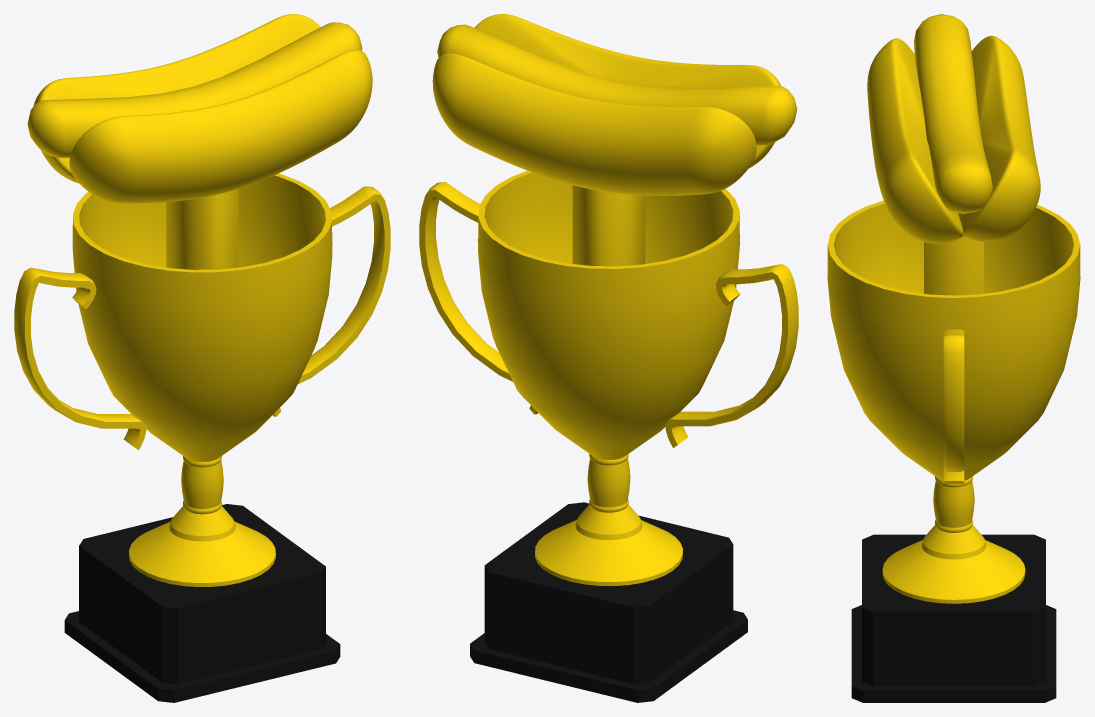
The model's file is TROFEO.fbx.
The picture shows the model from 3 angles, left to right: view 1: azimuth 30°, elevation 25°; view 2: azimuth 150°, elevation 25°; view 3: azimuth 270°, elevation 25°; orthographic projection. The views are drawn at different scales.
Visible parts, largest first — view 1: trophy, BunRight, Hot Dog, BunLeft, Cube; view 2: trophy, BunLeft, Hot Dog, BunRight, Cube; view 3: trophy, BunRight, Hot Dog, BunLeft, Cube.
Boxes of the visible parts, bbox=[...] form: trophy: bbox=[14, 173, 390, 702]; BunRight: bbox=[69, 50, 372, 203]; Hot Dog: bbox=[27, 22, 362, 157]; BunLeft: bbox=[33, 14, 320, 183]; Cube: bbox=[166, 189, 238, 269]; trophy: bbox=[419, 170, 798, 702]; BunLeft: bbox=[432, 53, 756, 195]; Hot Dog: bbox=[437, 24, 797, 145]; BunRight: bbox=[474, 14, 780, 168]; Cube: bbox=[572, 185, 645, 266]; trophy: bbox=[827, 200, 1080, 702]; BunRight: bbox=[867, 38, 963, 243]; Hot Dog: bbox=[914, 14, 992, 213]; BunLeft: bbox=[958, 35, 1040, 241]; Cube: bbox=[924, 237, 983, 295].
Bounding box in the file's own units: 49.05 × 74.42 × 30.
